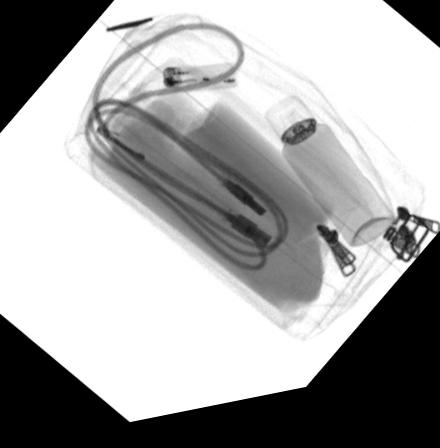Lighter: (162, 69, 236, 96)
Sprayer: (261, 103, 394, 261)
